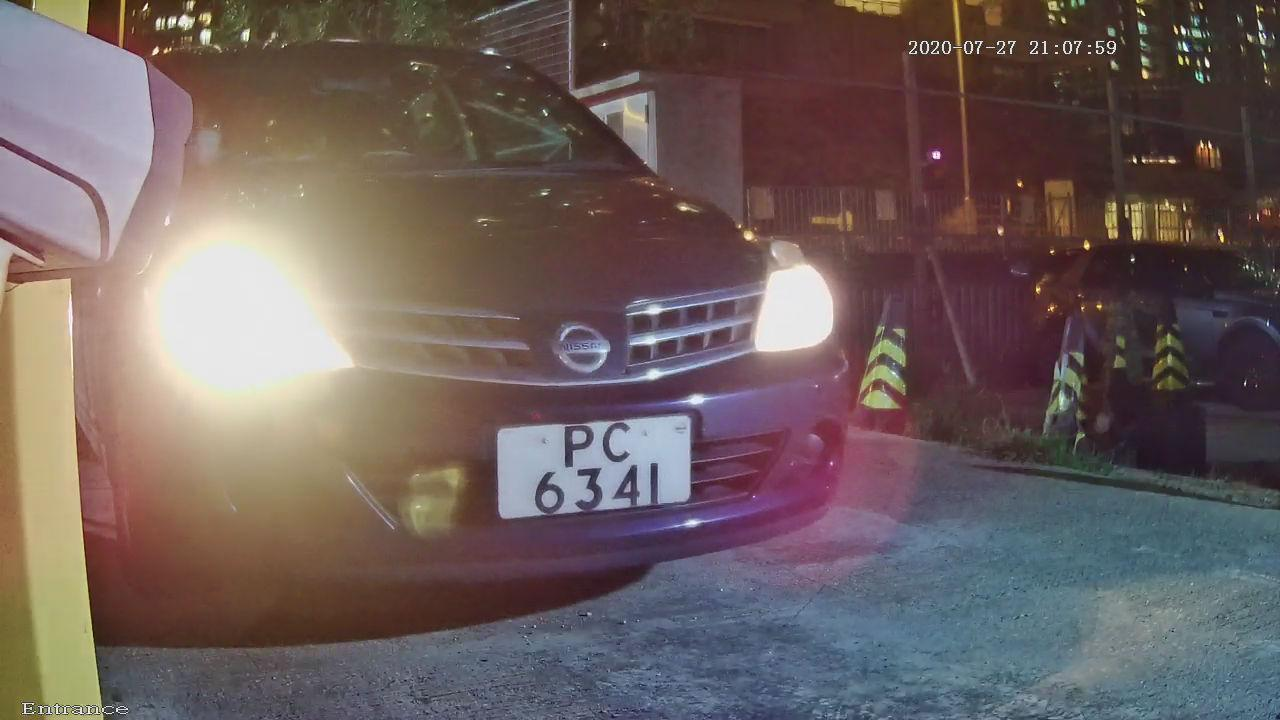privatecar: (58, 17, 921, 624)
